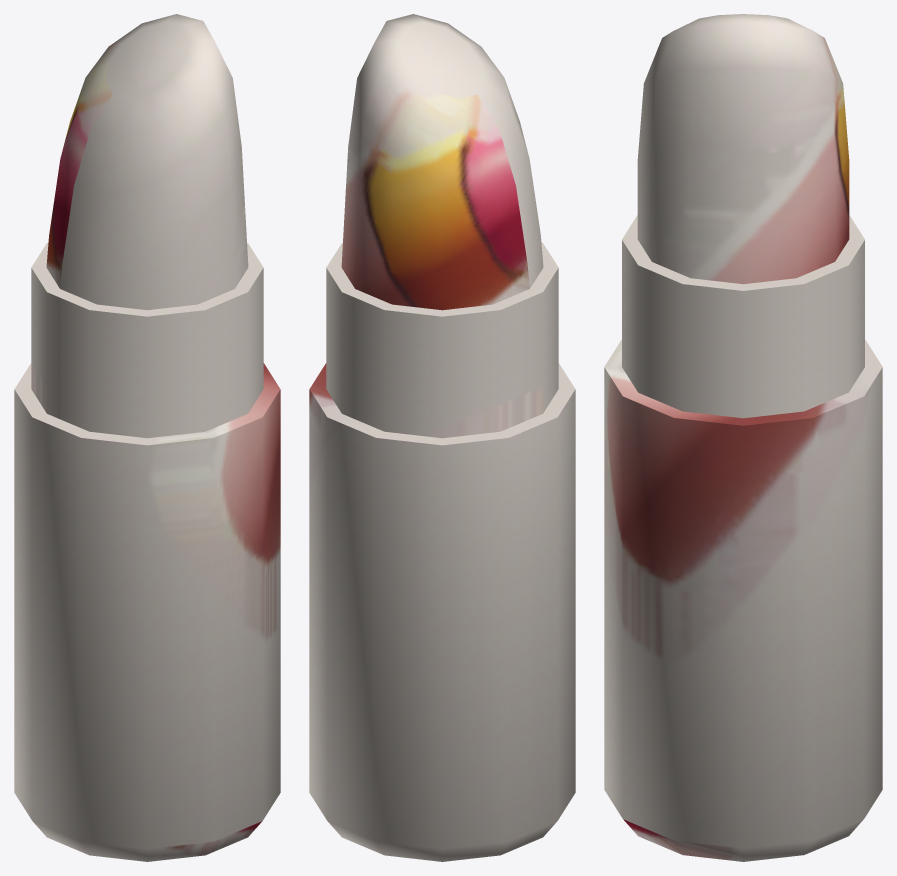
File: lipstick.fbx
3 renders of one model, left to right at view 1: azimuth 30°, elevation 25°; view 2: azimuth 150°, elevation 25°; view 3: azimuth 270°, elevation 25°, orthographic. The views are drawn at different scales.
Parts seen in each view (by area): view 1: lipstick; view 2: lipstick; view 3: lipstick.
Boxes of the visible parts, x1,y1,x2,y2 form: lipstick: (14, 14, 280, 861); lipstick: (309, 14, 575, 861); lipstick: (604, 14, 882, 861).
Size of the model in its own units: 0.1051 by 0.3392 by 0.1051.
